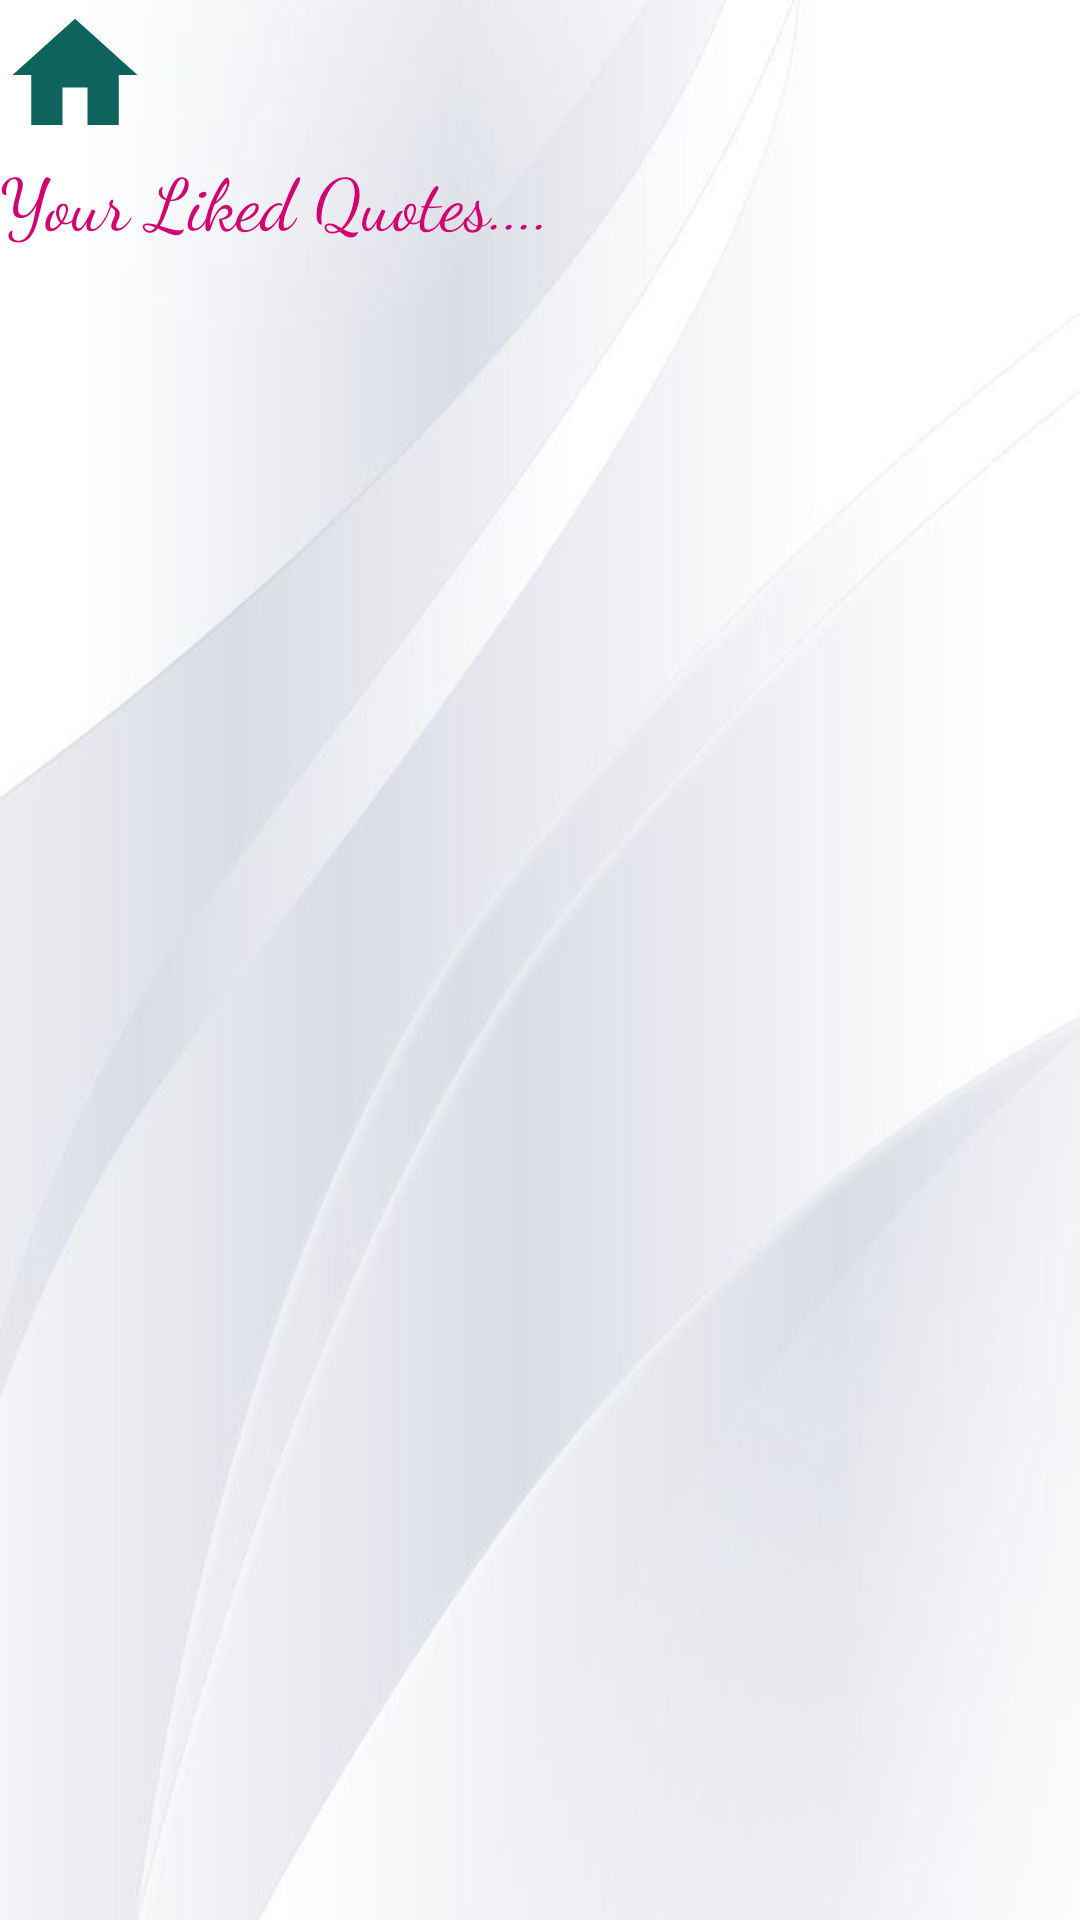

Icon click points for this 1080px x 1920px phone screenshot, format (x=x, y=y):
home: (x=75, y=72)
